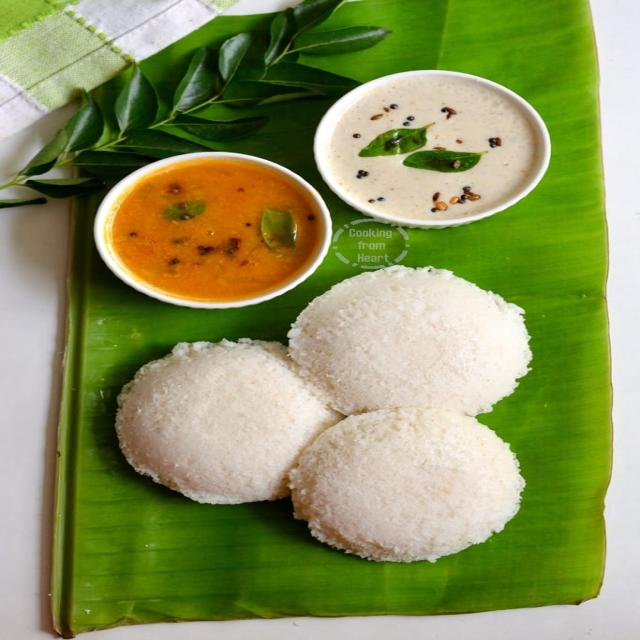chutney: (324, 72, 549, 220)
idli: (294, 409, 532, 563), (128, 339, 348, 502), (298, 270, 520, 418)
